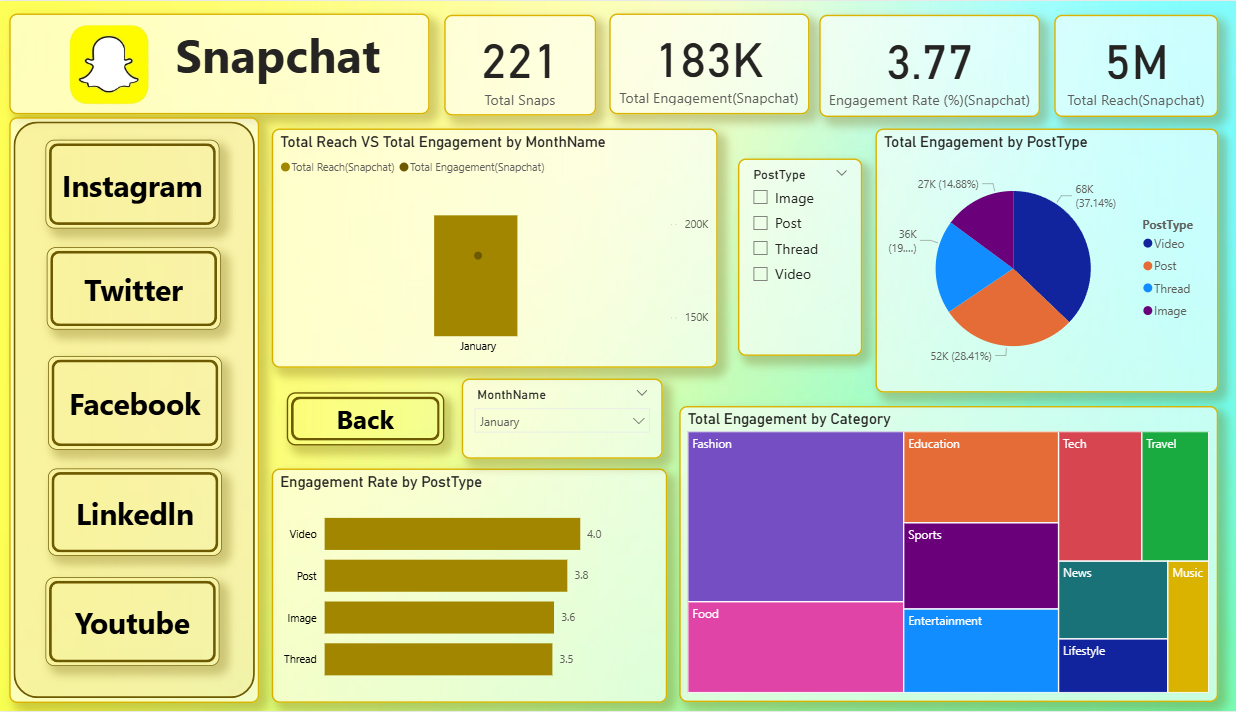

The dashboard page shown, as its layout file describes it:
{"tool":"powerbi","page":{"name":"Snapchat","canvas":[1400,800],"ordinal":3},"visuals":[{"type":"textbox","box":[12.3,13.7,474,113.7],"z":0},{"type":"image","box":[0,0,249.3,142.5],"z":1000},{"type":"card","fields":{"Values":["Snapchat_Data.Total Snaps"]},"box":[503.4,15.3,171.2,113.6],"z":2000},{"type":"card","fields":{"Values":["Snapchat_Data.Total Engagement(Snapchat)"]},"box":[688.1,13.6,225.4,113.6],"z":3000},{"type":"card","fields":{"Values":["Snapchat_Data.Engagement Rate (%)(Snapchat)"]},"box":[925.4,15.3,249.2,115.3],"z":4000},{"type":"card","fields":{"Values":["Snapchat_Data.Total Reach(Snapchat)"]},"box":[1189.8,15.3,184.7,115.3],"z":5000},{"type":"pieChart","title":"Total Engagement by PostType","fields":{"Category":["Snapchat_Data.PostType"],"Y":["Snapchat_Data.Total Engagement(Snapchat)"]},"box":[988.9,143.1,386.1,297.2],"z":6000},{"type":"treemap","title":"Total Engagement by Category","fields":{"Group":["Snapchat_Data.Category"],"Values":["Snapchat_Data.Total Engagement(Snapchat)"]},"box":[768.1,456.9,606.9,333.3],"z":7000},{"type":"lineClusteredColumnComboChart","title":"Total Reach VS Total Engagement by MonthName","fields":{"Category":["Snapchat_Data.MonthName"],"Y":["Snapchat_Data.Total Reach(Snapchat)"],"Y2":["Snapchat_Data.Total Engagement(Snapchat)"]},"box":[308.3,143.1,502.8,269.4],"z":8000},{"type":"clusteredBarChart","title":"Engagement Rate  by PostType","fields":{"Category":["Snapchat_Data.PostType"],"Y":["Snapchat_Data.Engagement Rate (%)(Snapchat)"]},"box":[308.3,526.4,445.8,263.9],"z":9000},{"type":"slicer","fields":{"Values":["Snapchat_Data.MonthName"]},"box":[522.2,425,226.4,90.3],"z":10000},{"type":"slicer","fields":{"Values":["Snapchat_Data.PostType"]},"box":[833.3,177.8,140.3,222.2],"z":11000},{"type":"shape","box":[12.5,130.6,281.9,659.7],"z":12000},{"type":"actionButton","box":[54.2,156.9,195.8,100],"z":13000},{"type":"actionButton","box":[55.6,277.8,195.8,93.1],"z":14000},{"type":"actionButton","box":[56.9,400,195.8,105.6],"z":15000},{"type":"actionButton","box":[56.9,526.4,195.8,98.6],"z":16000},{"type":"actionButton","box":[54.2,648.6,195.8,100],"z":17000},{"type":"actionButton","box":[325,440.3,177.8,59.7],"z":18000}]}

Visuals, with their boxes in screenshot pixels (x1, y1, x2, y2), scaled from the page's 1400x800 canvas onto the 1236x712 screenshot:
textbox: 11/12/429/113
image: 0/0/220/127
card - Snapchat_Data.Total Snaps: 444/14/596/115
card - Snapchat_Data.Total Engagement(Snapchat): 607/12/806/113
card - Snapchat_Data.Engagement Rate (%)(Snapchat): 817/14/1037/116
card - Snapchat_Data.Total Reach(Snapchat): 1050/14/1213/116
"Total Engagement by PostType" pieChart: 873/127/1214/392
"Total Engagement by Category" treemap: 678/407/1214/703
"Total Reach VS Total Engagement by MonthName" lineClusteredColumnComboChart: 272/127/716/367
"Engagement Rate  by PostType" clusteredBarChart: 272/468/666/703
slicer - Snapchat_Data.MonthName: 461/378/661/459
slicer - Snapchat_Data.PostType: 736/158/860/356
shape: 11/116/260/703
actionButton: 48/140/221/229
actionButton: 49/247/222/330
actionButton: 50/356/223/450
actionButton: 50/468/223/556
actionButton: 48/577/221/666
actionButton: 287/392/444/445
